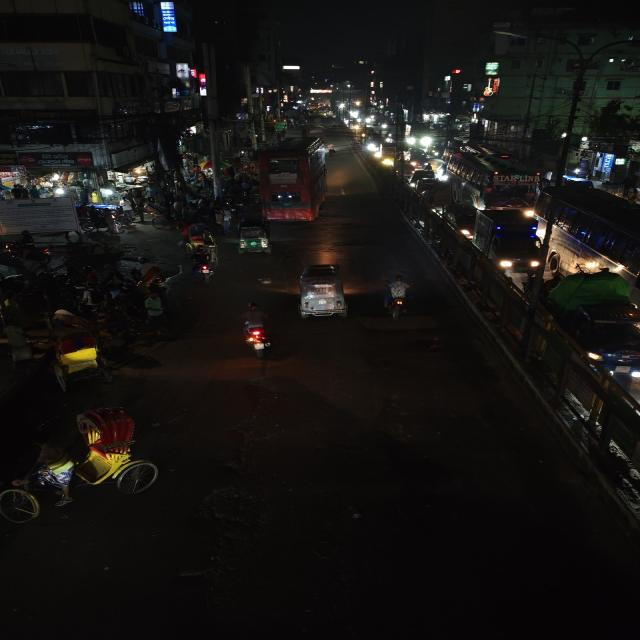bus: (536, 186, 640, 286), (256, 135, 331, 223), (445, 148, 541, 213)
car: (410, 168, 437, 186)
cng: (294, 262, 351, 322), (236, 218, 274, 256)
motorcycle: (234, 302, 278, 358), (376, 273, 418, 321), (187, 249, 220, 284)
pedestrian: (137, 291, 172, 334), (220, 209, 235, 233)
rickshaw: (0, 401, 188, 529), (25, 327, 128, 386), (176, 222, 218, 256)
truck: (536, 271, 640, 374), (470, 206, 540, 276)
